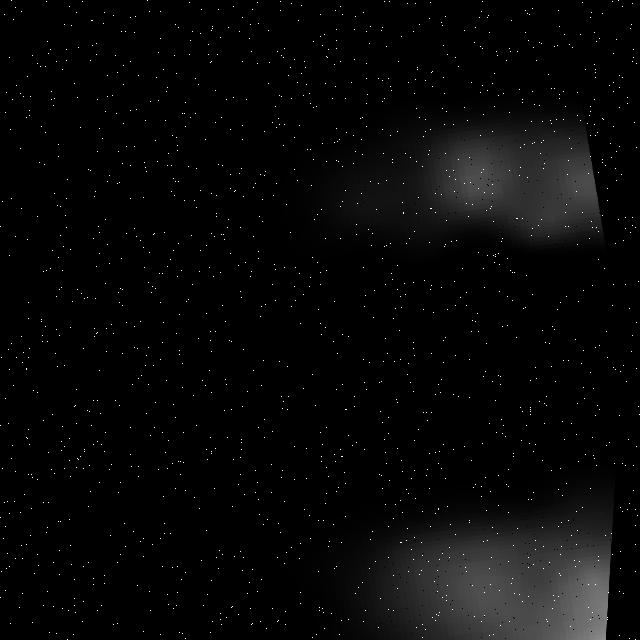person: (230, 28, 621, 326), (217, 416, 623, 640)
